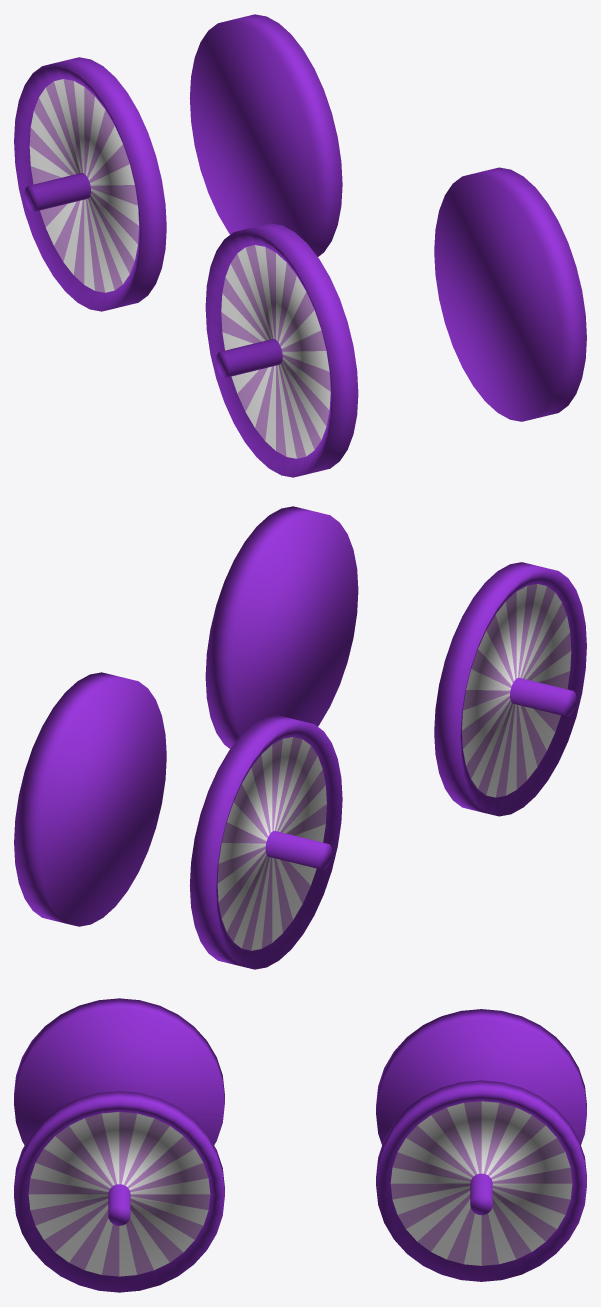
The model's file is wheels.glb.
3 views of the same model, one above another, from view 1: azimuth 30°, elevation 25°; view 2: azimuth 150°, elevation 25°; view 3: azimuth 270°, elevation 25° (orthographic). The views are drawn at different scales.
Visible parts, largest first — view 1: wheel-front-right, wheel-back-left, wheel-front-left, wheel-back-right; view 2: wheel-front-left, wheel-back-right, wheel-back-left, wheel-front-right; view 3: wheel-front-right, wheel-back-right, wheel-front-left, wheel-back-left.
Boxes of the visible parts, bbox=[...] form: wheel-front-right: bbox=[434, 167, 586, 421]; wheel-back-left: bbox=[14, 57, 166, 311]; wheel-front-left: bbox=[205, 223, 358, 477]; wheel-back-right: bbox=[189, 14, 342, 256]; wheel-front-left: bbox=[434, 562, 586, 816]; wheel-back-right: bbox=[14, 672, 166, 926]; wheel-back-left: bbox=[189, 715, 342, 969]; wheel-front-right: bbox=[205, 506, 358, 748]; wheel-front-right: bbox=[14, 1091, 224, 1292]; wheel-back-right: bbox=[376, 1080, 586, 1281]; wheel-front-left: bbox=[14, 998, 224, 1145]; wheel-back-left: bbox=[376, 1009, 586, 1144].
Size of the model in its own units: 0.4834 by 0.3063 by 0.8324.
